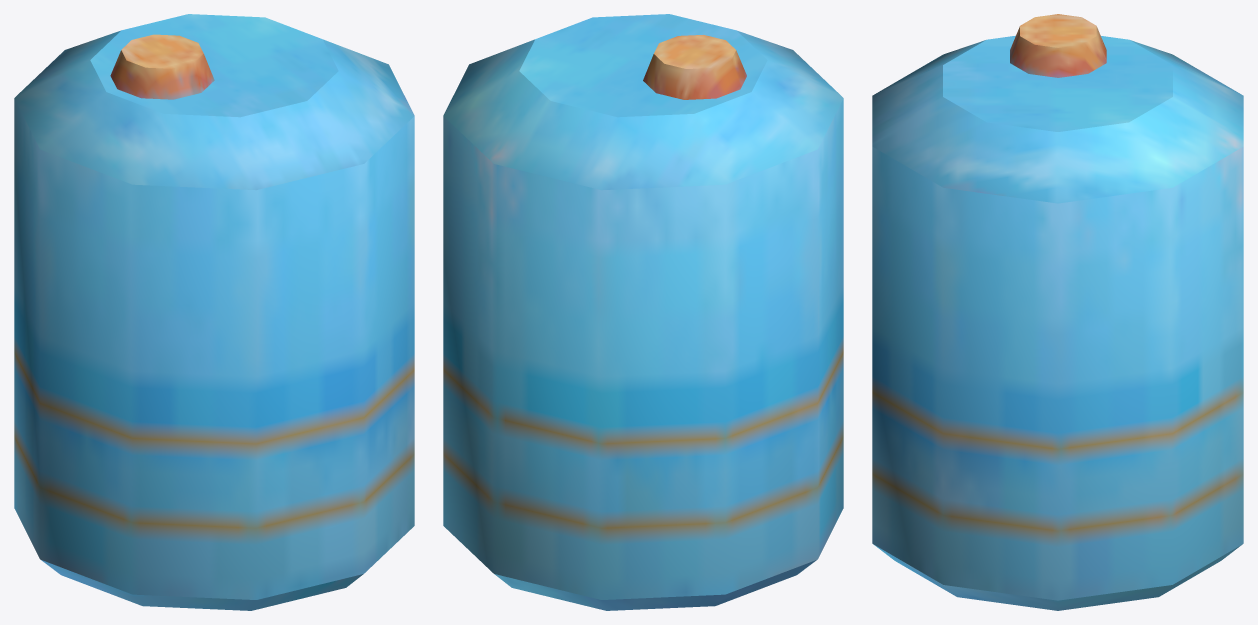
Rendered from eqp_bottle_s03_l1.fbx.
3 views of the same model, side by side, from view 1: azimuth 30°, elevation 25°; view 2: azimuth 150°, elevation 25°; view 3: azimuth 270°, elevation 25° (orthographic). The views are drawn at different scales.
Parts seen in each view (by area): view 1: mesh_node; view 2: mesh_node; view 3: mesh_node.
Part boxes in pixels (box(x1,y1,x2,y2)): mesh_node: box(14, 14, 414, 610); mesh_node: box(443, 14, 843, 610); mesh_node: box(872, 14, 1243, 610).
Bounding box in the file's own units: 0.0843 × 0.1151 × 0.0802.
